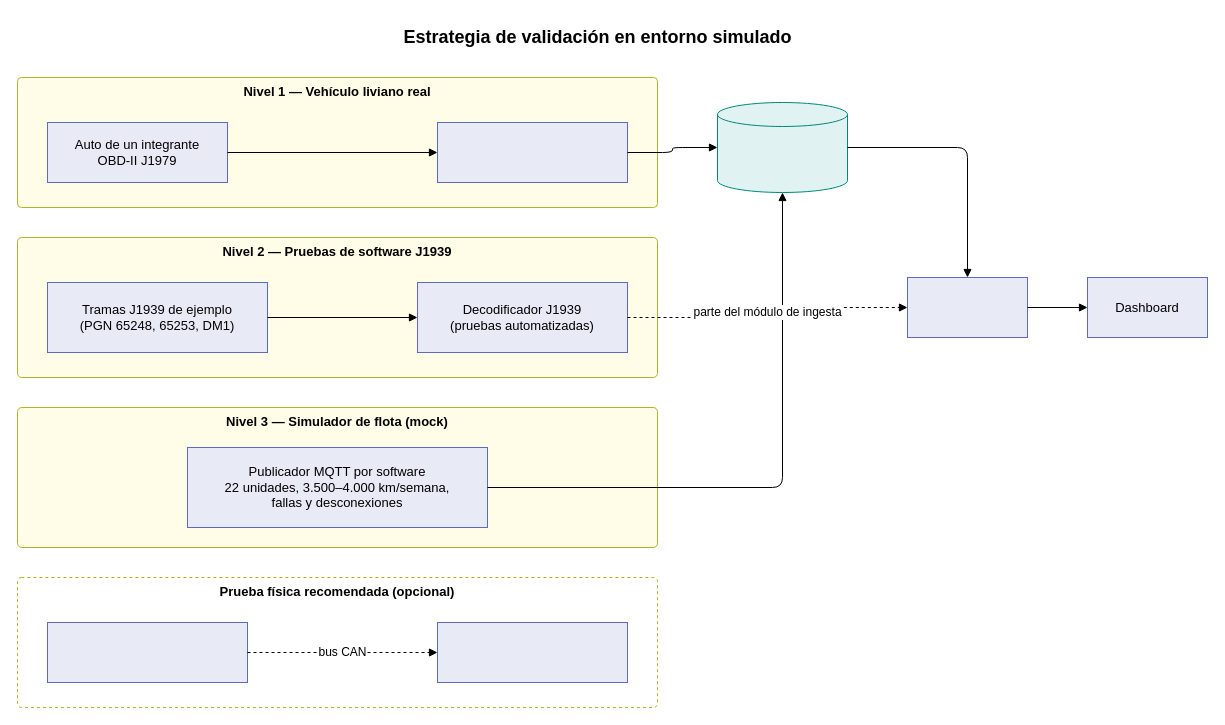
Image size: 1225x725. Some labels were removed from this diagram. The shapes that lost their labels are listed below. From the top down, each one's centre as x and y in pixels, then its label:
At (532,152): "Dispositivo del proyecto".
At (782,147): "Broker MQTT".
At (967,307): "Backend".
At (147,652): "ESP32 + transceptor CAN emite tramas J1939".
At (532,652): "Interfaz SparkFun (STN1110)".
